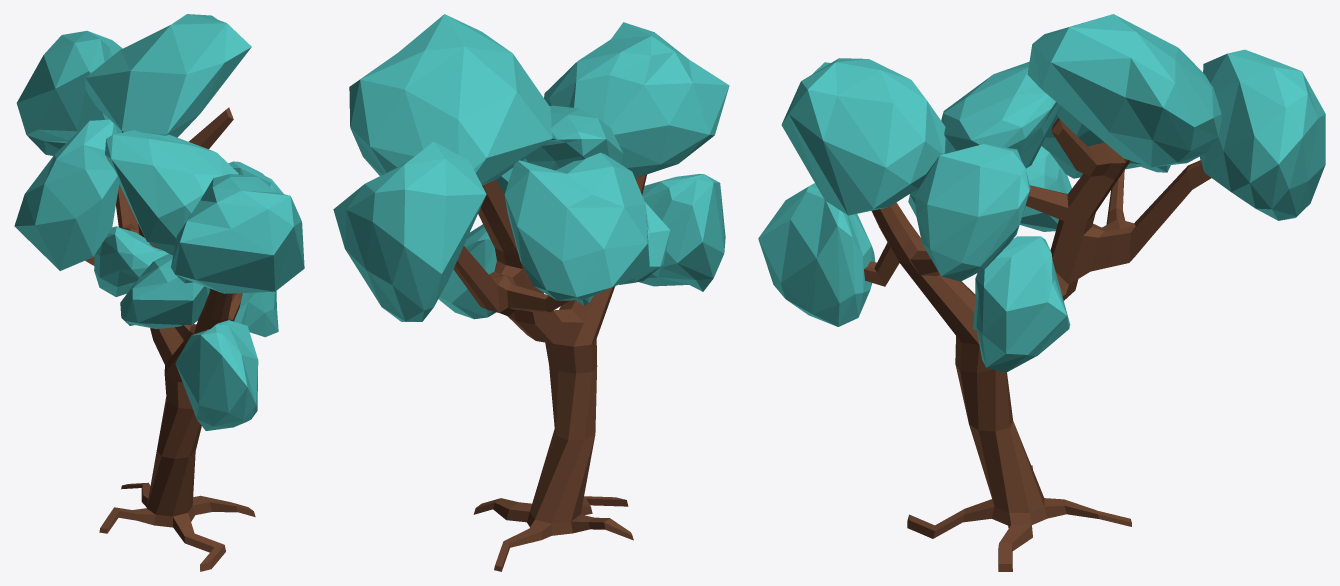
3 renders of one model, left to right at view 1: azimuth 30°, elevation 25°; view 2: azimuth 150°, elevation 25°; view 3: azimuth 270°, elevation 25°, orthographic. The views are drawn at different scales.
Parts seen in each view (by area): view 1: t1-cyan; view 2: t1-cyan; view 3: t1-cyan.
Part boxes in pixels (x1,y1,x2,y2): t1-cyan: (14,14,304,571); t1-cyan: (333,14,729,571); t1-cyan: (758,14,1325,571).
Bounding box in the file's own units: 606 × 1175 × 1101.
